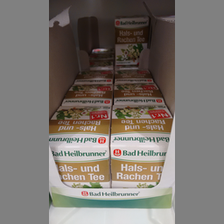tea: (49, 105, 111, 187), (111, 104, 171, 188), (114, 15, 151, 67)
